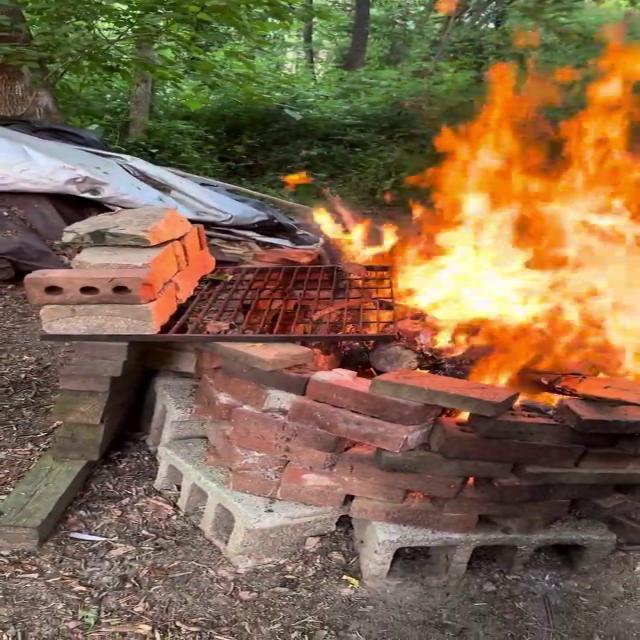Fire: (308, 27, 638, 389)
